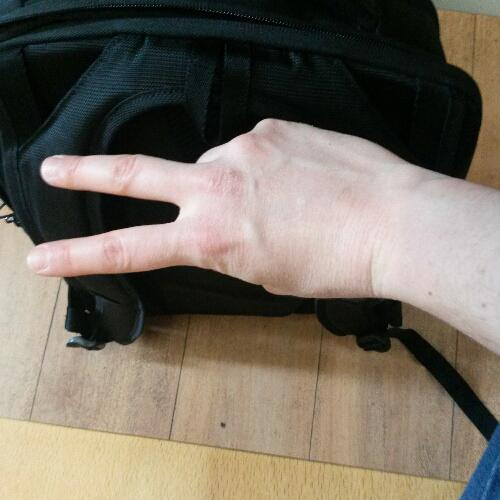scissors: (21, 111, 408, 307)
